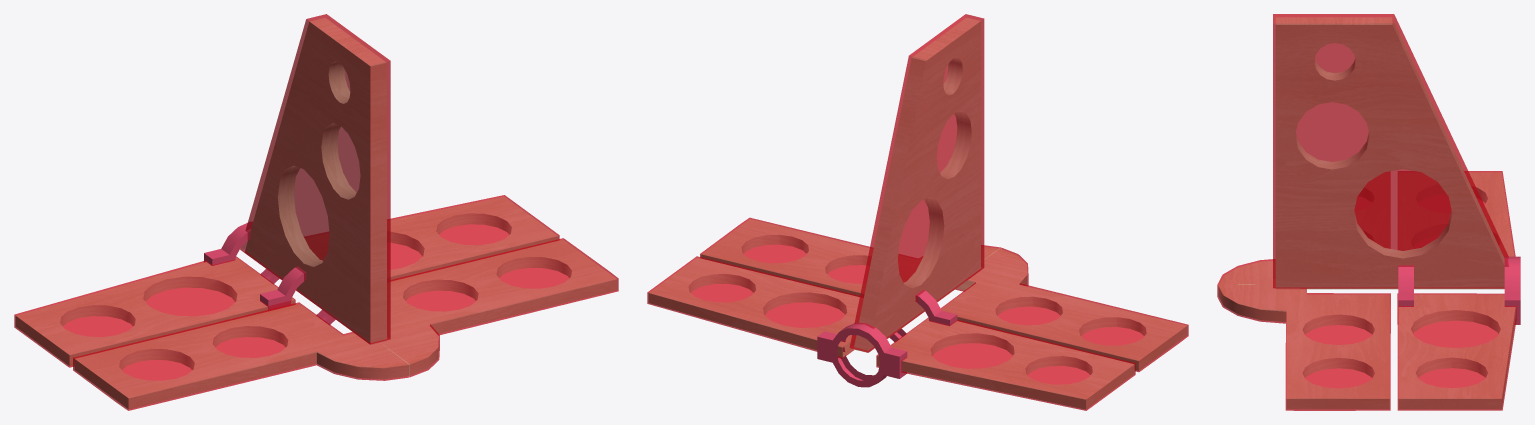
File: TCS_Exhibition_Machine_Best_BackControl.fbx
3 views of the same model, side by side, from view 1: azimuth 30°, elevation 25°; view 2: azimuth 150°, elevation 25°; view 3: azimuth 270°, elevation 25° (orthographic). The views are drawn at different scales.
Parts seen in each view (by area): view 1: Cube.035, Cube.028, Cube.036, Cube.032, Cylinder.040; view 2: Cube.035, Cube.028, Cube.036, Cube.032, Cylinder.040; view 3: Cube.036, Cube.032, Cube.035, Cube.028, Cylinder.040.
Part boxes in pixels (x1,y1,x2,y2): Cube.035: [14, 195, 618, 410]; Cube.028: [15, 196, 617, 409]; Cube.036: [240, 14, 390, 344]; Cube.032: [245, 18, 386, 344]; Cylinder.040: [204, 222, 335, 324]; Cube.035: [647, 217, 1188, 410]; Cube.028: [648, 219, 1187, 409]; Cube.036: [849, 14, 984, 352]; Cube.032: [854, 17, 980, 352]; Cylinder.040: [817, 290, 957, 387]; Cube.036: [1273, 14, 1508, 288]; Cube.032: [1275, 17, 1504, 289]; Cube.035: [1217, 171, 1516, 410]; Cube.028: [1218, 172, 1515, 409]; Cylinder.040: [1398, 256, 1520, 324].
Bounding box in the file's own units: 3.16 × 1.96 × 1.78.
